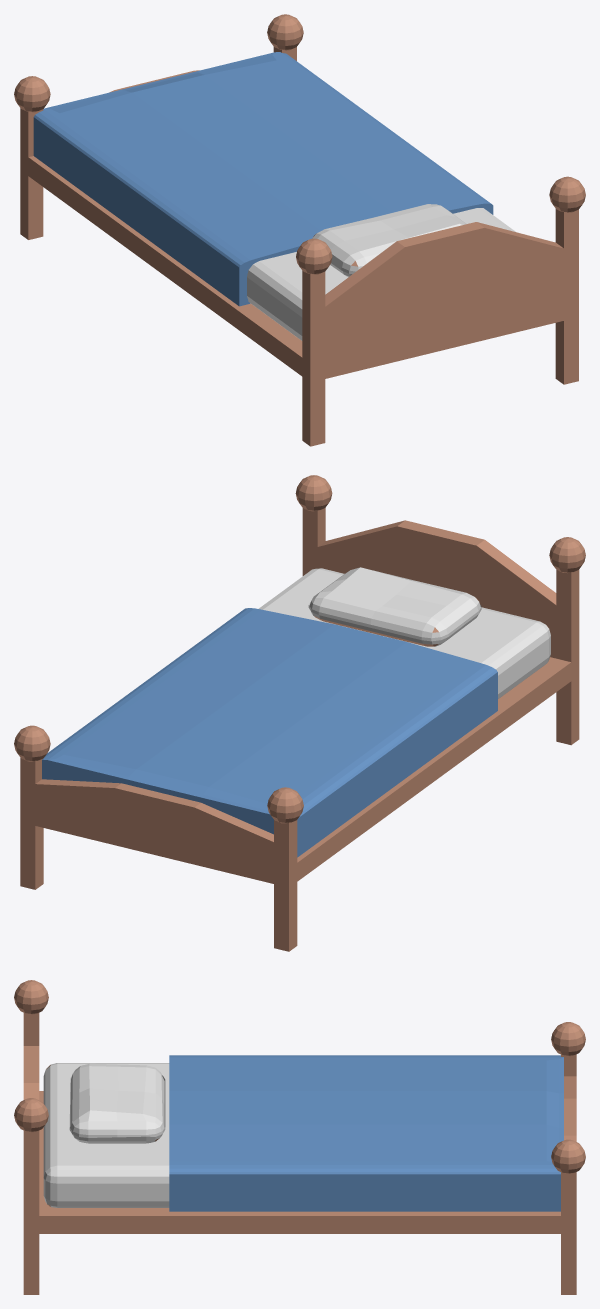
The model's file is Lit1pAvecDrap.fbx.
The picture shows the model from 3 angles, top to bottom: view 1: azimuth 30°, elevation 25°; view 2: azimuth 150°, elevation 25°; view 3: azimuth 270°, elevation 25°; orthographic projection. The views are drawn at different scales.
Visible parts, largest first — view 1: Cube.006; view 2: Cube.006; view 3: Cube.006.
Boxes of the visible parts, box(x1,y1,x2,y2) form: Cube.006: box(14, 14, 585, 446); Cube.006: box(14, 475, 585, 951); Cube.006: box(14, 980, 585, 1294).
Size of the model in its own units: 416 by 281 by 759.
